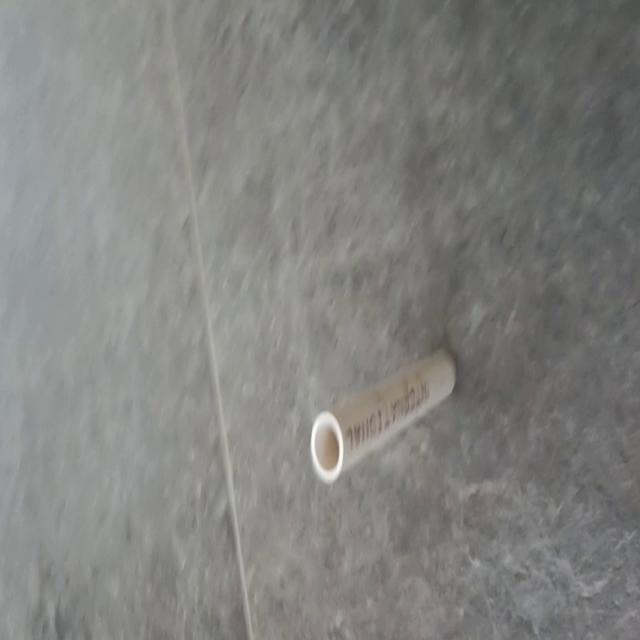Cube: (309, 344, 457, 484)
